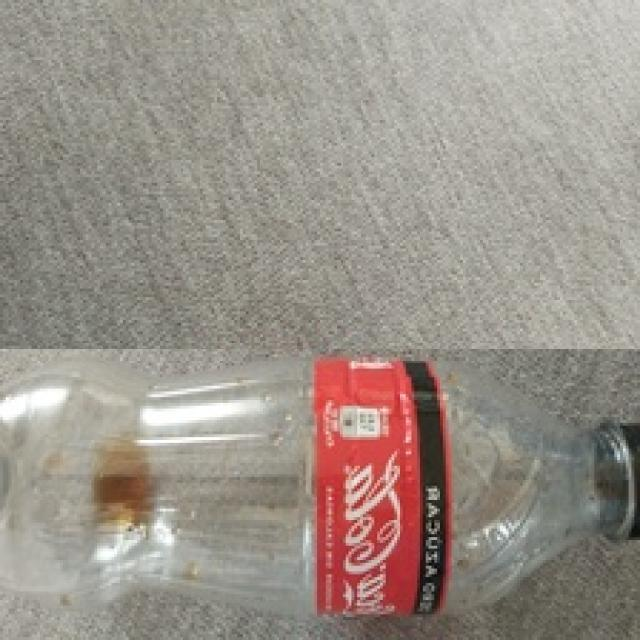bottle: (0, 349, 640, 640)
label: (312, 350, 450, 628)
